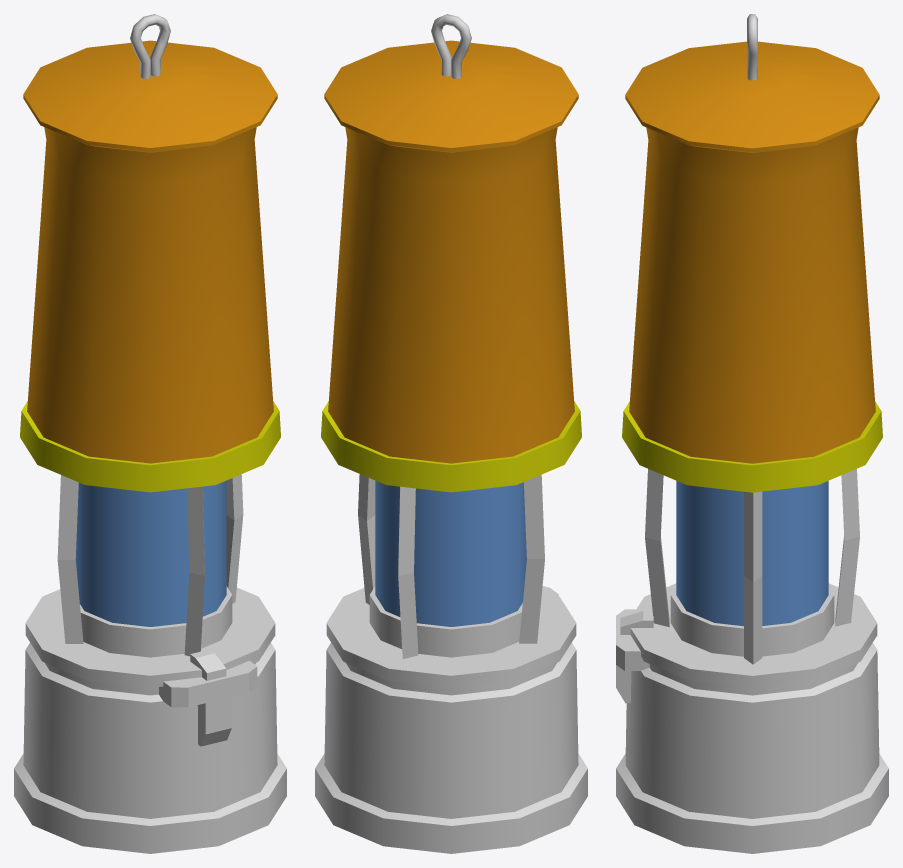
The model's file is lantaarn.fbx.
The picture shows the model from 3 angles, left to right: view 1: azimuth 30°, elevation 25°; view 2: azimuth 150°, elevation 25°; view 3: azimuth 270°, elevation 25°; orthographic projection.
Parts seen in each view (by area): view 1: Cylinder.001, Cylinder, Cube, Circle.001, Circle.002, Circle.003, NurbsPath; view 2: Cylinder.001, Cylinder, Circle.001, Circle, Circle.003, NurbsPath; view 3: Cylinder.001, Cylinder, Circle.003, Circle.002, Circle, Cube, NurbsPath.
Boxes of the visible parts, <box> form: Cylinder.001: <box>20,40,280,626</box>; Cylinder: <box>14,586,286,853</box>; Cube: <box>159,649,257,746</box>; Circle.001: <box>57,475,83,643</box>; Circle.002: <box>184,486,204,656</box>; Circle.003: <box>226,474,243,603</box>; NurbsPath: <box>130,14,170,78</box>; Cylinder.001: <box>321,40,581,626</box>; Cylinder: <box>315,586,587,853</box>; Circle.001: <box>519,474,544,643</box>; Circle: <box>398,486,418,658</box>; Circle.003: <box>358,474,375,604</box>; NurbsPath: <box>431,14,471,78</box>; Cylinder.001: <box>622,41,882,626</box>; Cylinder: <box>616,583,888,853</box>; Circle.003: <box>744,491,762,664</box>; Circle.002: <box>645,469,669,626</box>; Circle: <box>835,469,859,626</box>; Cube: <box>616,609,653,703</box>; NurbsPath: <box>747,14,757,80</box>.
Bounding box in the file's own units: 17.98 × 56.7 × 17.98.
